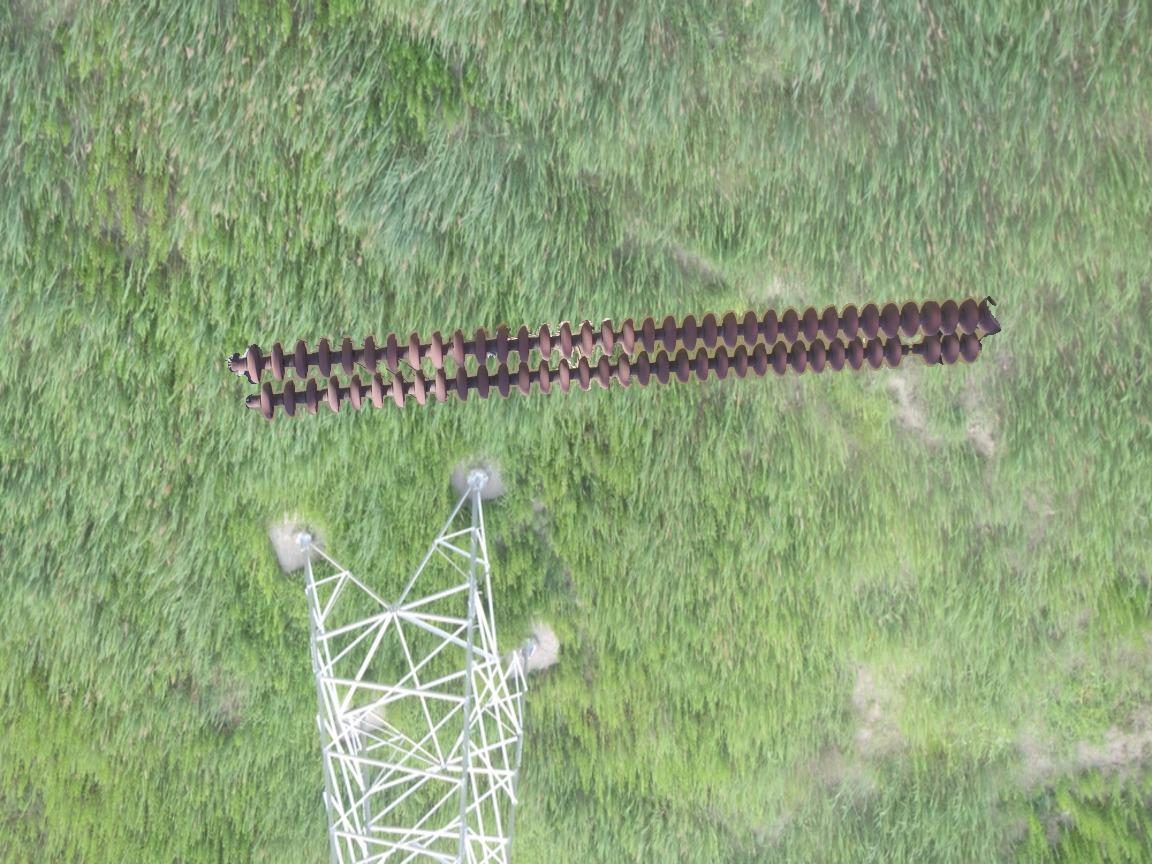insulator: (239, 291, 1004, 422)
insulator_stringdrop: (883, 331, 944, 371)
